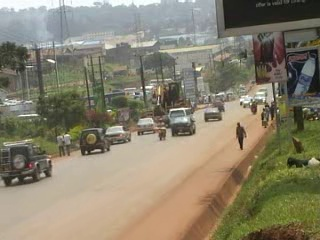Car: (0, 136, 55, 191), (76, 123, 111, 158), (169, 113, 197, 137), (104, 124, 133, 146), (133, 113, 157, 136), (202, 105, 224, 124), (241, 96, 251, 107), (237, 94, 247, 104)
Motorcycle: (152, 118, 169, 144), (247, 96, 258, 116)
